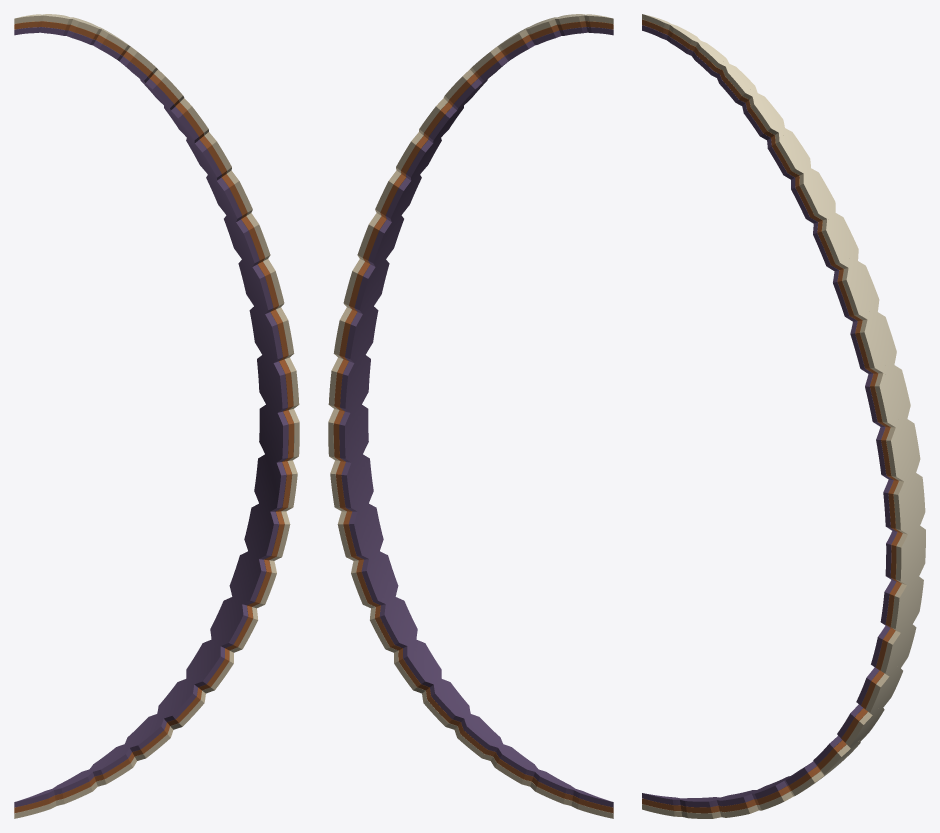
The model's file is shell-fractures.fbx.
3 views of the same model, side by side, from view 1: azimuth 30°, elevation 25°; view 2: azimuth 150°, elevation 25°; view 3: azimuth 330°, elevation 25° (orthographic).
Visible parts, largest first — view 1: L3_R09_F1, L3_R08_F1, L3_R10_F1, L3_R07_F1, L3_R11_F1, L3_R06_F1, L3_R12_F1, L3_R05_F1, L3_R13_F1, L3_R04_F1, L3_R14_F1, L3_R03_F1 (+1 smaller); view 2: L3_R08_F1, L3_R09_F1, L3_R10_F1, L3_R07_F1, L3_R11_F1, L3_R06_F1, L3_R09_F3, L3_R08_F3, L3_R10_F3, L3_R12_F1; view 3: L1_R13_F1, L1_R12_F1, L1_R14_F1, L1_R11_F1, L1_R15_F1, L1_R10_F1, L1_R16_F1, L1_R09_F1, L1_R17_F1, L1_R08_F1, L1_R18_F1, L1_R07_F1 (+1 smaller).
Boxes of the visible parts, x1,y1,x2,y2 form: L3_R09_F1: (262,457,286,514); L3_R08_F1: (251,506,279,561); L3_R10_F1: (268,407,288,465); L3_R07_F1: (234,554,266,606); L3_R11_F1: (270,357,287,415); L3_R06_F1: (212,599,248,648); L3_R12_F1: (261,309,282,365); L3_R05_F1: (186,641,224,687); L3_R13_F1: (248,262,273,316); L3_R04_F1: (156,680,197,721); L3_R14_F1: (232,217,259,269); L3_R03_F1: (122,715,166,751); L3_R08_F1: (364,502,383,561); L3_R09_F1: (359,453,373,514); L3_R10_F1: (355,403,368,465); L3_R07_F1: (375,550,398,606); L3_R11_F1: (353,353,370,415); L3_R06_F1: (391,595,417,648); L3_R09_F3: (341,451,359,496); L3_R08_F3: (348,500,367,544); L3_R10_F3: (339,401,358,446); L3_R12_F1: (357,305,378,365); L1_R13_F1: (874,366,904,431); L1_R12_F1: (886,420,912,485); L1_R14_F1: (860,313,892,377); L1_R11_F1: (893,474,916,538); L1_R15_F1: (842,261,876,324); L1_R10_F1: (895,527,915,588); L1_R16_F1: (821,213,857,272); L1_R09_F1: (890,578,911,635); L1_R17_F1: (799,168,835,223); L1_R08_F1: (880,626,905,678); L1_R18_F1: (775,128,811,177); L1_R07_F1: (865,670,894,716).
Size of the model in its own units: 2437 by 6800 by 381.
